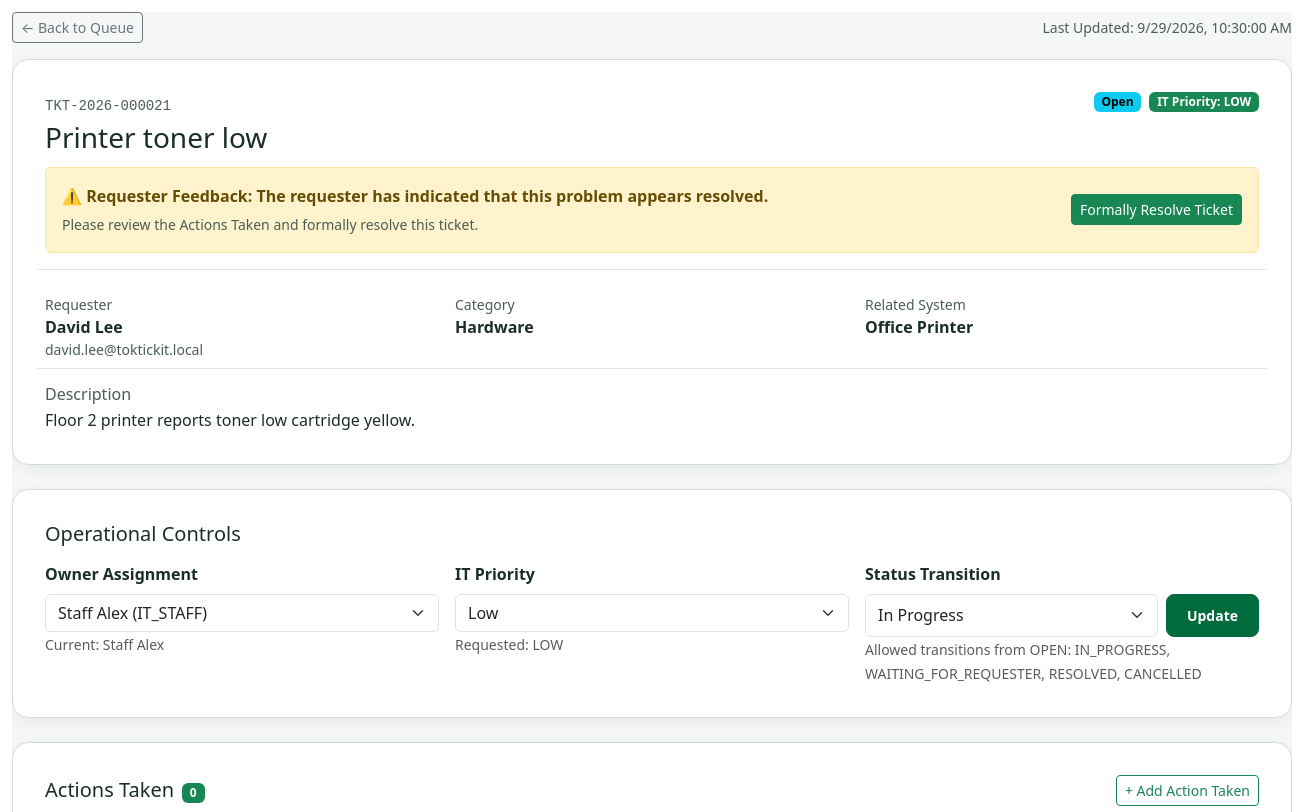
Work Item 6: Ticket Workflow & Resolution Component Tests (UI-03) › UI-03c: Displays conflict warning alert when updateTicketStatus returns 409 Conflict
The image size is (1304, 812).
Click the button with test id "formally-resolve-btn".
click(1156, 210)  # box [1071,194,1242,225]
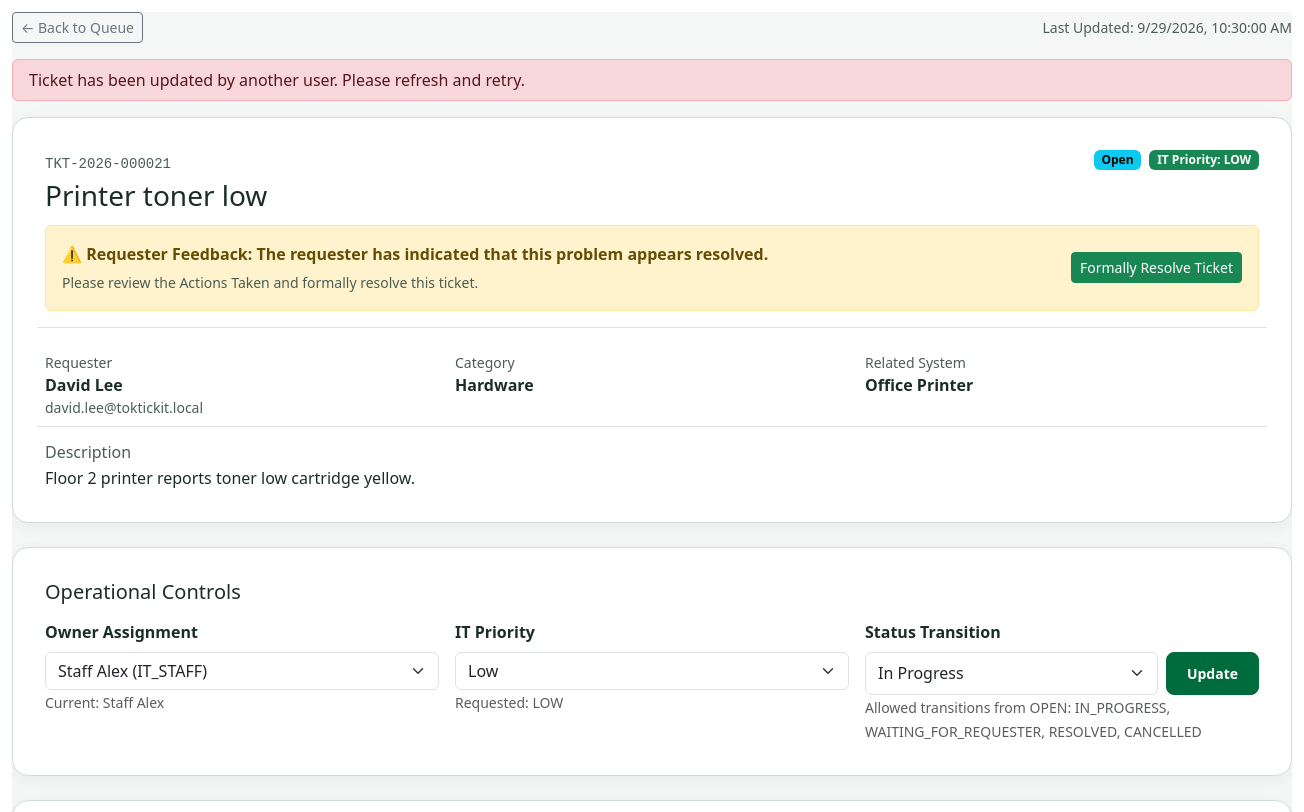
Now the text "Ticket has been updated by another user. Please refresh and retry." is shown, box [12,59,1292,101]
